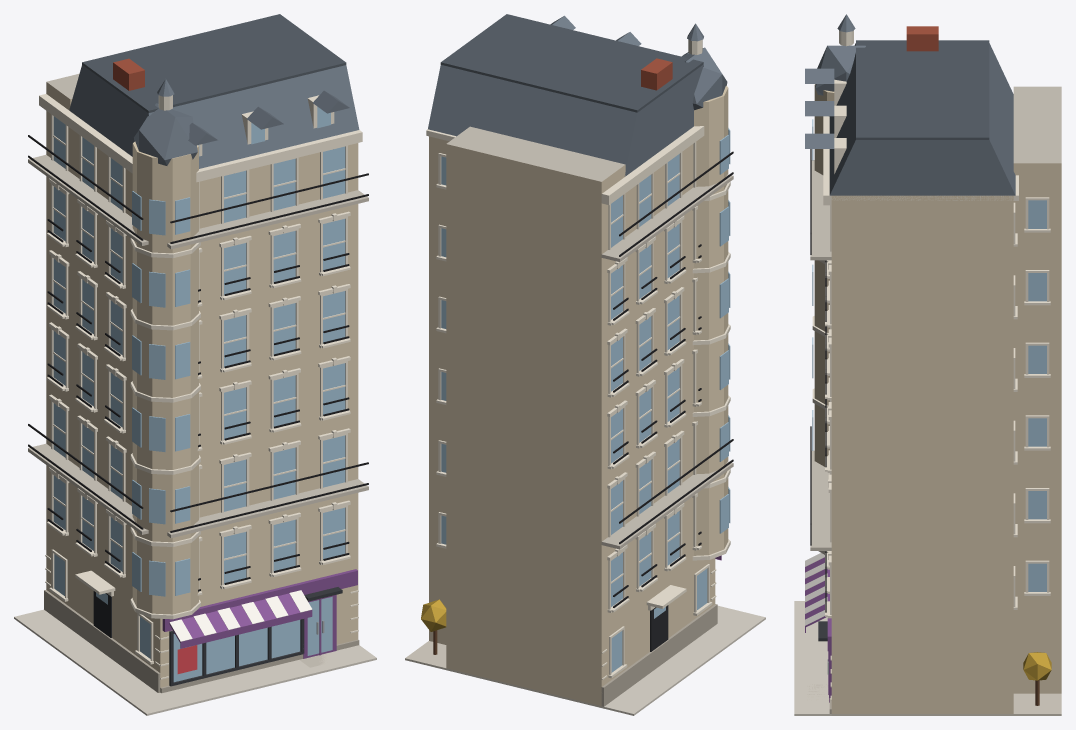
The model's file is Blok_kose_7k_1_Hafif.fbx.
The picture shows the model from 3 angles, left to right: view 1: azimuth 30°, elevation 25°; view 2: azimuth 150°, elevation 25°; view 3: azimuth 270°, elevation 25°; orthographic projection.
Visible parts, largest first — view 1: Blok_kose_7k_1_Hafif; view 2: Blok_kose_7k_1_Hafif; view 3: Blok_kose_7k_1_Hafif.
Boxes of the visible parts, left/top/right/bottom form: Blok_kose_7k_1_Hafif: left=14, top=14, right=376, bottom=715; Blok_kose_7k_1_Hafif: left=405, top=14, right=765, bottom=715; Blok_kose_7k_1_Hafif: left=794, top=14, right=1061, bottom=715.
Size of the model in its own units: 10 by 25.27 by 10.
